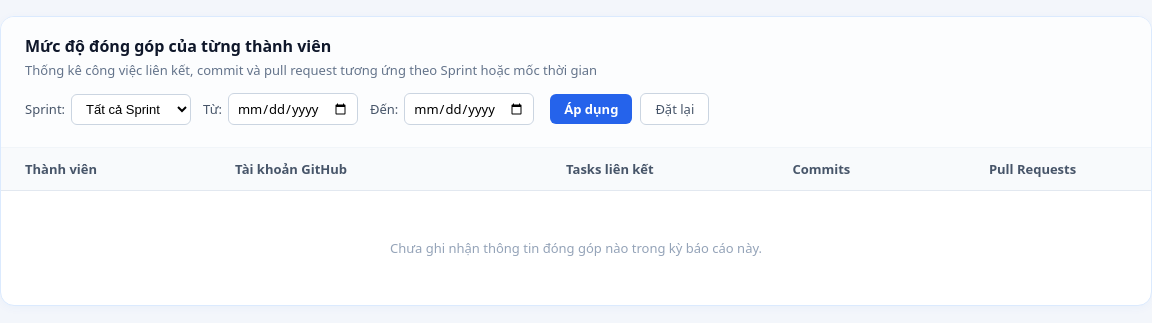
CNPM-107 MemberContributionComponent Tests › 6. Chống race condition khi bấm lọc liên tiếp: chỉ giữ kết quả của request mới nhất
This screenshot has width=1152, height=323.
Click the button "Áp dụng": click(591, 109) 550,94 -> 632,124
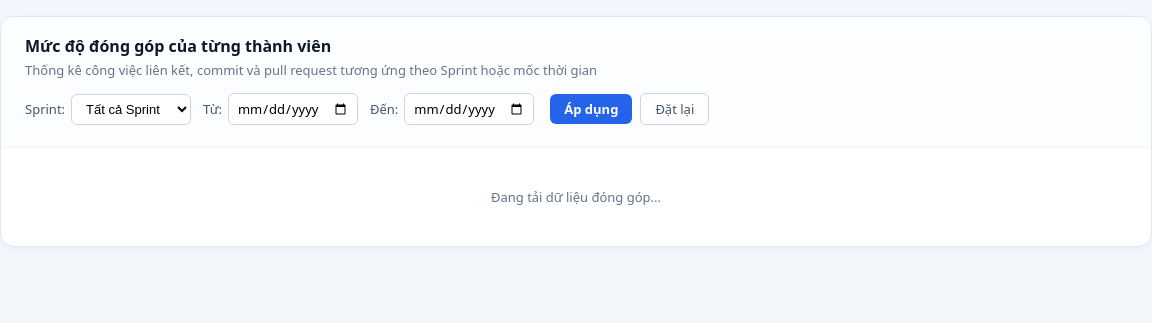
Click the button "Áp dụng": click(591, 109) 550,94 -> 632,124
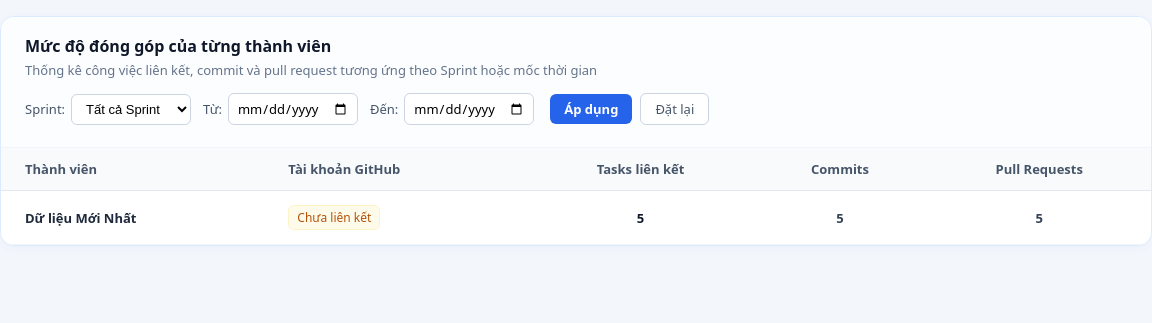
Expected: the text "Dữ liệu Mới Nhất" is shown, 25,208 -> 136,226
